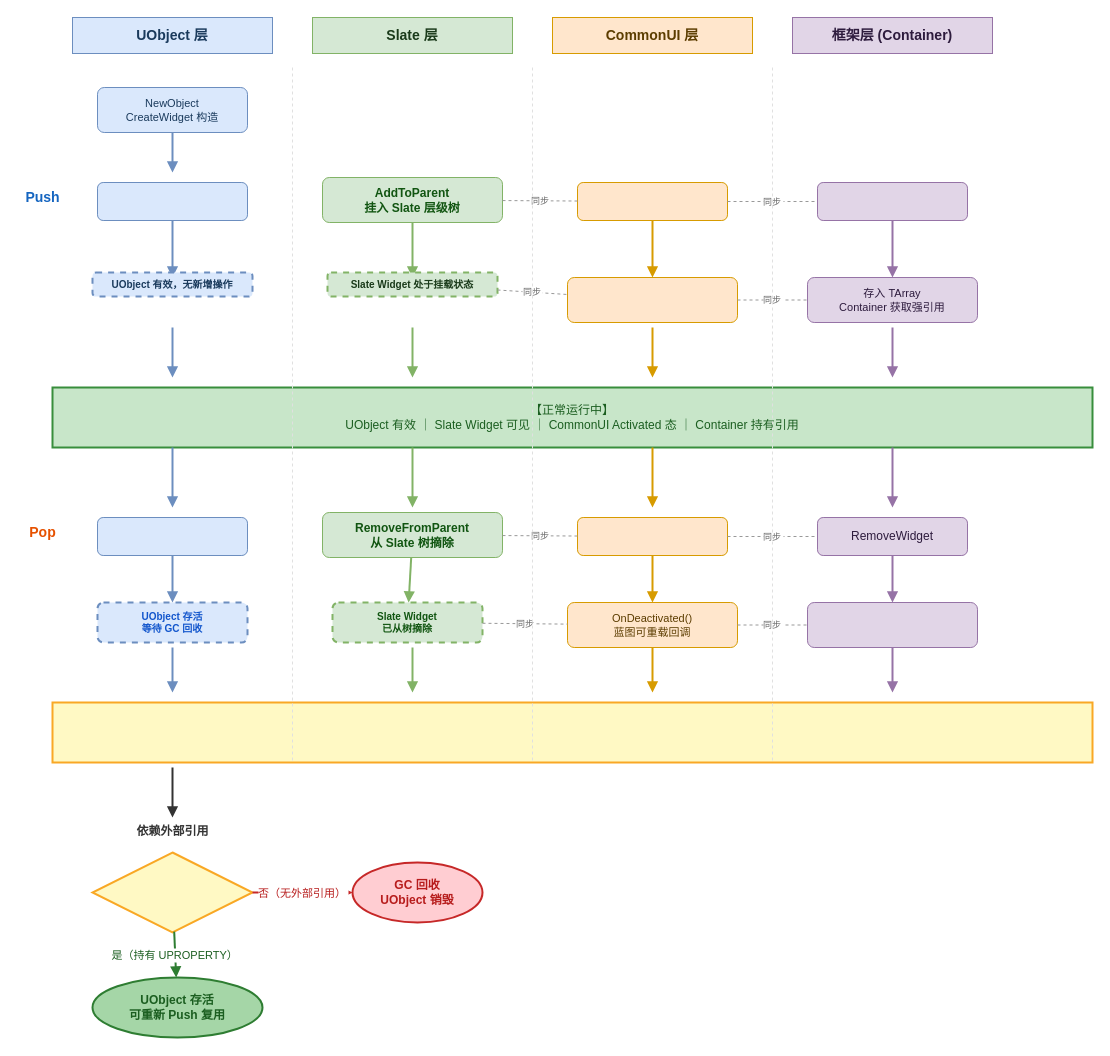
The diagram is 1110 pixels wide and 1056 high, and some of its shapes have lost their labels. The shapes that lost their labels are listed below. From the top down, each one's centre as x and y in pixels, then its label:
(172,201): AddToParent
(652,201): ActivateWidget
(892,201): AddWidget 完成
(652,299): OnActivated() 蓝图可重载回调
(172,536): RemoveFromParent
(652,536): DeactivateWidget
(892,625): 从 TArray 移除 Container 释放强引用
(572,732): 【Pop 后状态】 UObject 存活? ｜ Slate 已摘除 ｜ CommonUI Deactivated 态 ｜ 框架已释放引用
(172,892): 有外部 UPROPERTY 引用?
